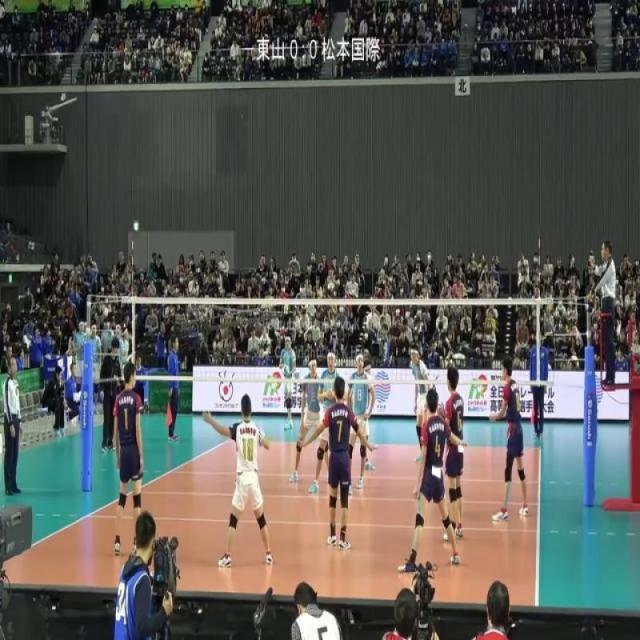volleyball: (282, 364, 290, 377)
